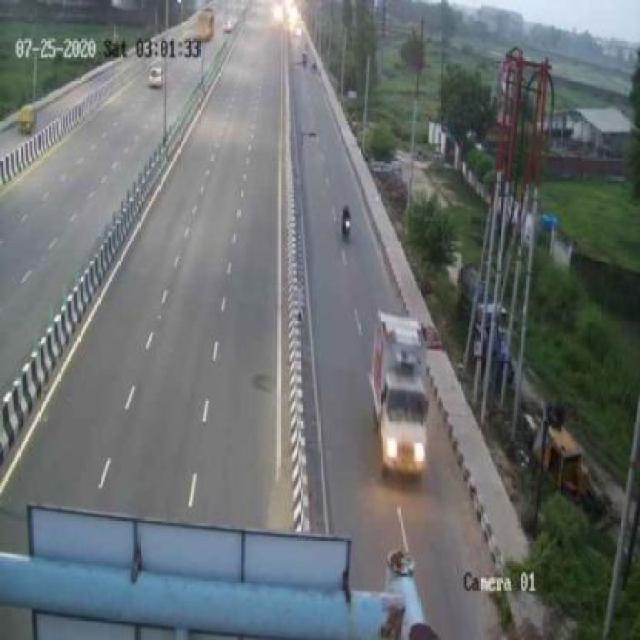car: (360, 289, 452, 482)
